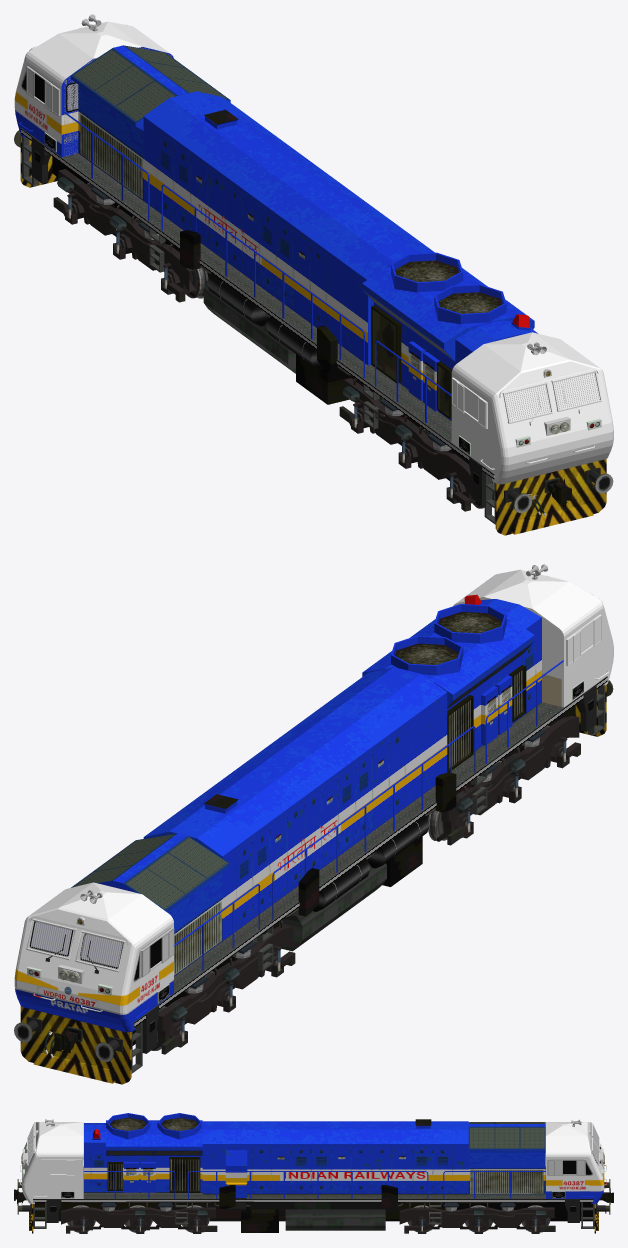
File: loco_wdp4d_pratap.glb
3 renders of one model, top to bottom at view 1: azimuth 30°, elevation 25°; view 2: azimuth 150°, elevation 25°; view 3: azimuth 270°, elevation 25°, orthographic. The views are drawn at different scales.
Visible parts, largest first — view 1: wdp4d_pratap__wdp4d_gd.glb; view 2: wdp4d_pratap__wdp4d_gd.glb; view 3: wdp4d_pratap__wdp4d_gd.glb.
Boxes of the visible parts, x1,y1,x2,y2 form: wdp4d_pratap__wdp4d_gd.glb: [14, 14, 613, 535]; wdp4d_pratap__wdp4d_gd.glb: [14, 564, 613, 1084]; wdp4d_pratap__wdp4d_gd.glb: [14, 1113, 613, 1233].
Size of the model in its own units: 3.18 by 4.27 by 22.19.
9 materials, 8 textured.
